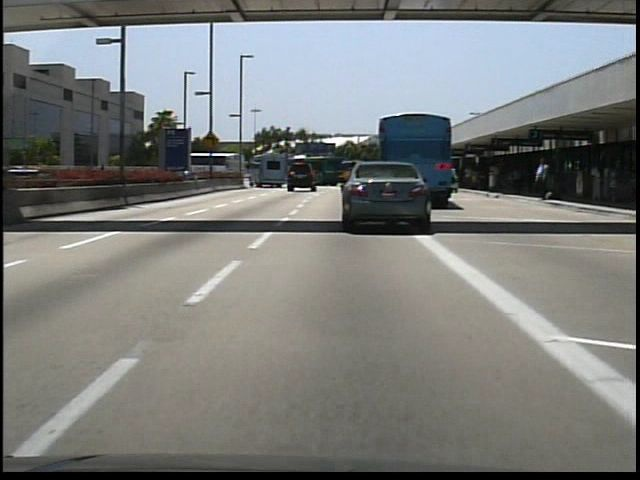person: (533, 155, 553, 203)
